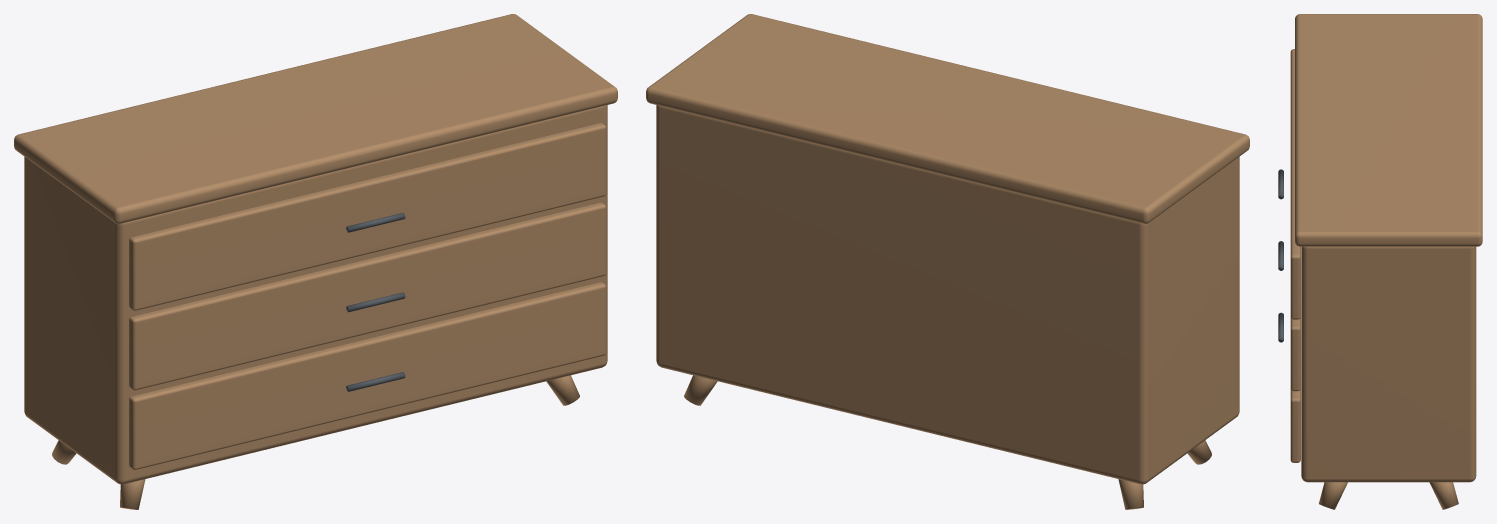
The model's file is atelier-dresser.glb.
3 renders of one model, left to right at view 1: azimuth 30°, elevation 25°; view 2: azimuth 150°, elevation 25°; view 3: azimuth 270°, elevation 25°, orthographic. The views are drawn at different scales.
Parts seen in each view (by area): view 1: legs.041, metal.009; view 2: legs.041; view 3: legs.041, metal.009.
Part boxes in pixels (x1,y1,x2,y2): legs.041: (14,14,617,509); metal.009: (346,213,405,391); legs.041: (646,14,1249,509); legs.041: (1290,14,1482,509); metal.009: (1278,169,1283,342).
Size of the model in its own units: 1.44 by 0.8793 by 0.5605.
